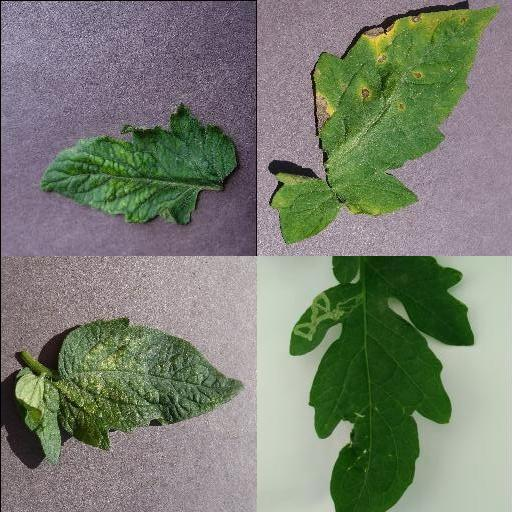Leaf Miner: (286, 256, 474, 511)
Mosaic Virus: (36, 104, 234, 225)
Septoria: (308, 6, 506, 220)
Spider Mites: (57, 317, 245, 451)
